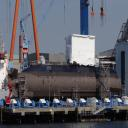submarine: (4, 33, 124, 102)
